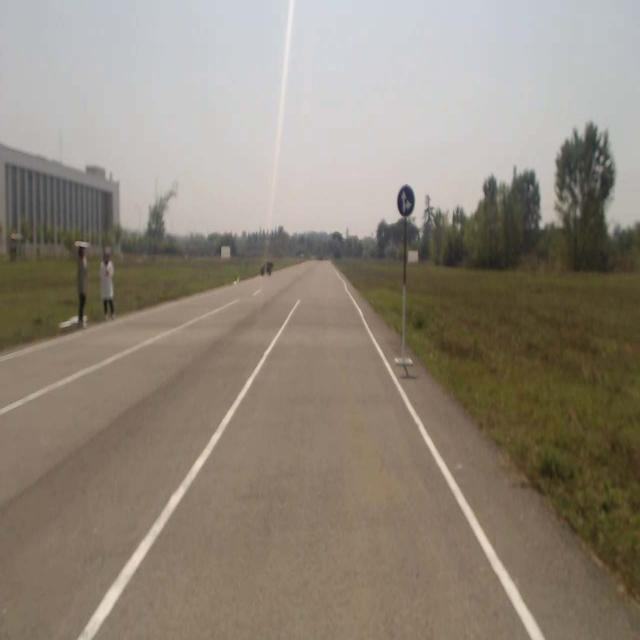ilerisag: (398, 186, 415, 216)
